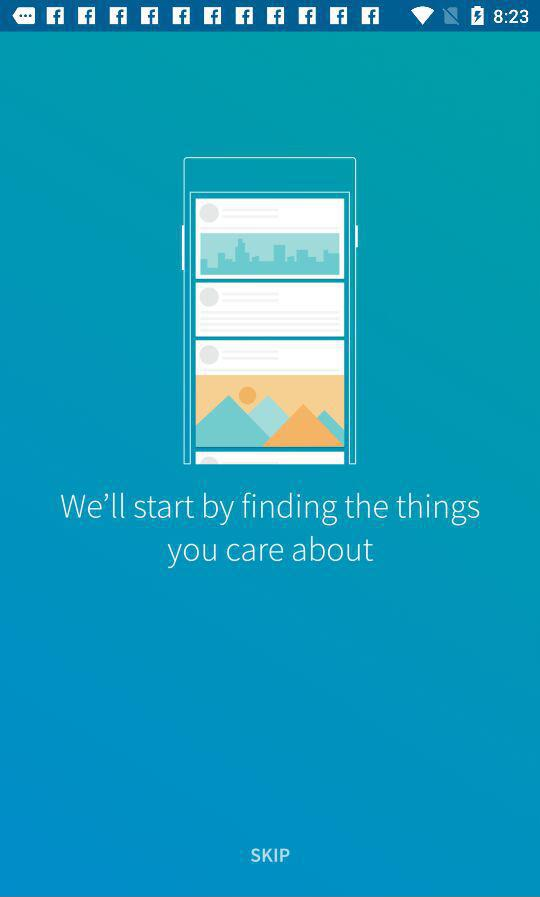Image: (181, 157, 360, 467)
Text: (61, 492, 481, 570), (250, 847, 291, 864)
UpperTaskBar: (1, 1, 540, 33)
